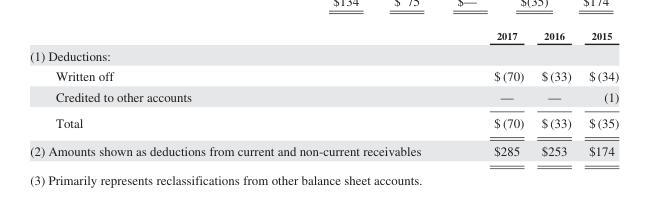table: (29, 29, 618, 186)
table column: (45, 29, 457, 186), (457, 29, 532, 186), (532, 29, 579, 186), (579, 29, 618, 186), (29, 29, 45, 186)
table column header: (29, 29, 618, 44)
table row: (29, 136, 618, 164), (29, 109, 618, 136), (29, 86, 618, 109), (29, 164, 618, 186), (29, 44, 618, 65), (29, 65, 618, 86), (29, 29, 618, 44)
table spanning cell: (29, 44, 45, 136)
